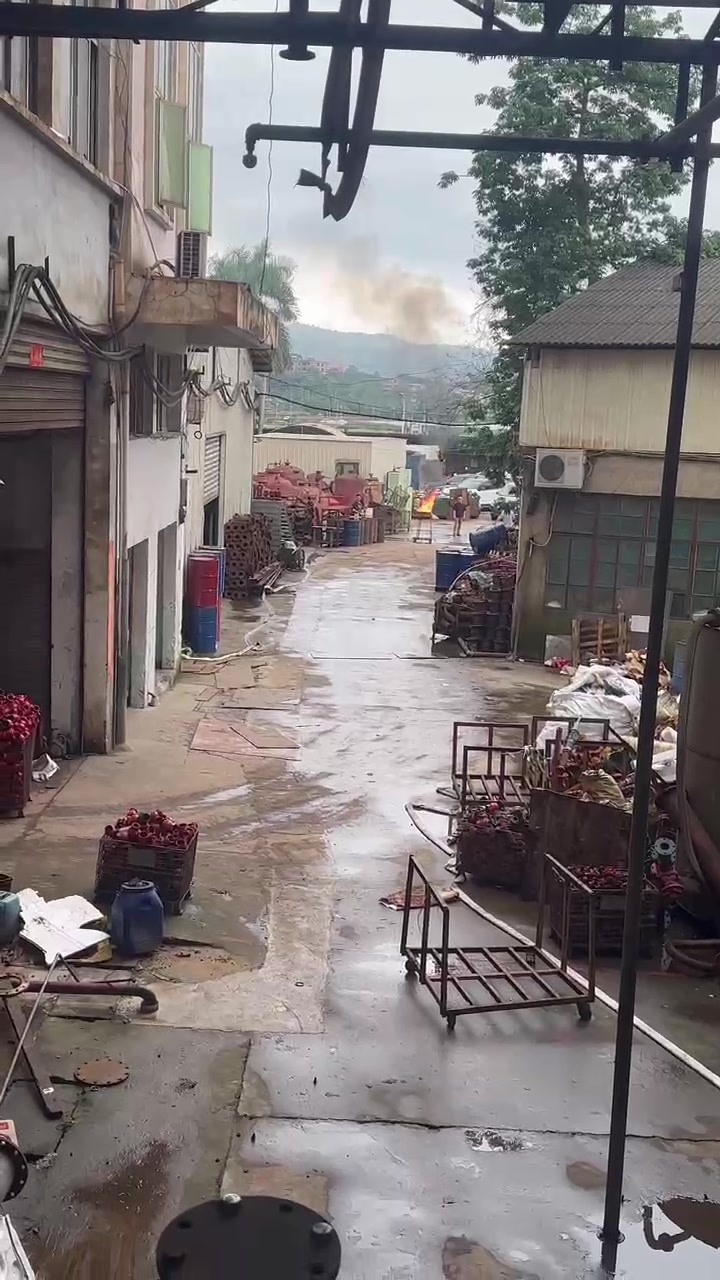fire: (415, 489, 436, 511)
